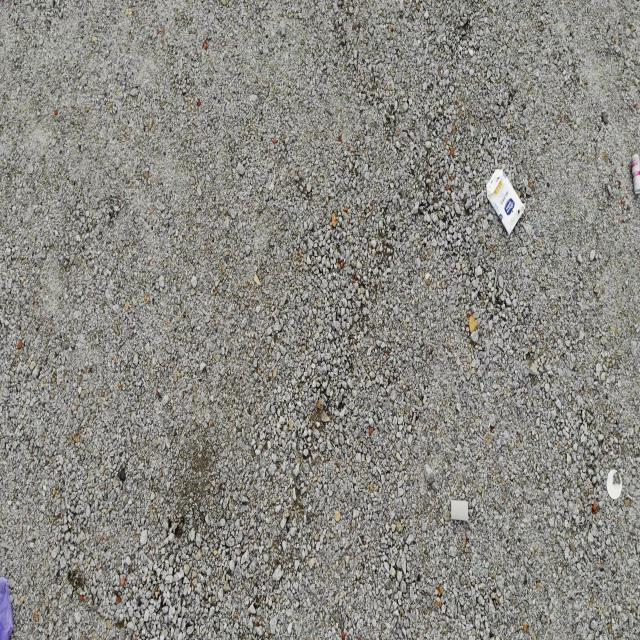rubbish: (484, 166, 528, 236), (0, 578, 13, 639), (450, 498, 470, 522), (631, 153, 640, 194)
